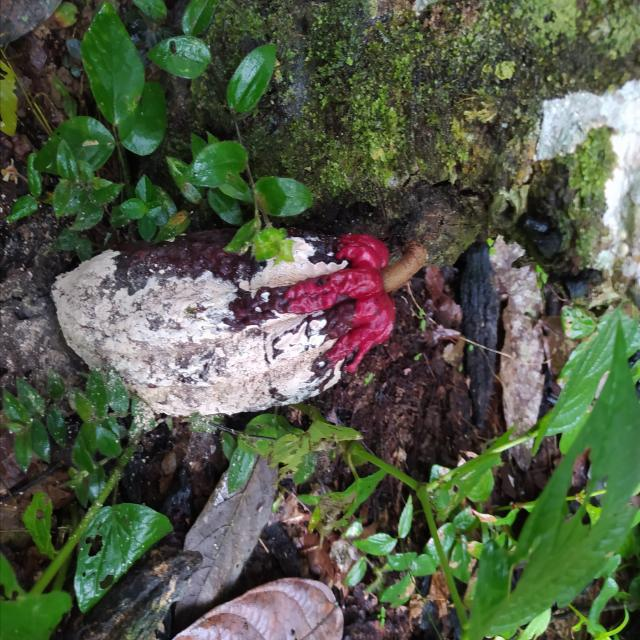Monilia: (47, 235, 397, 418)
